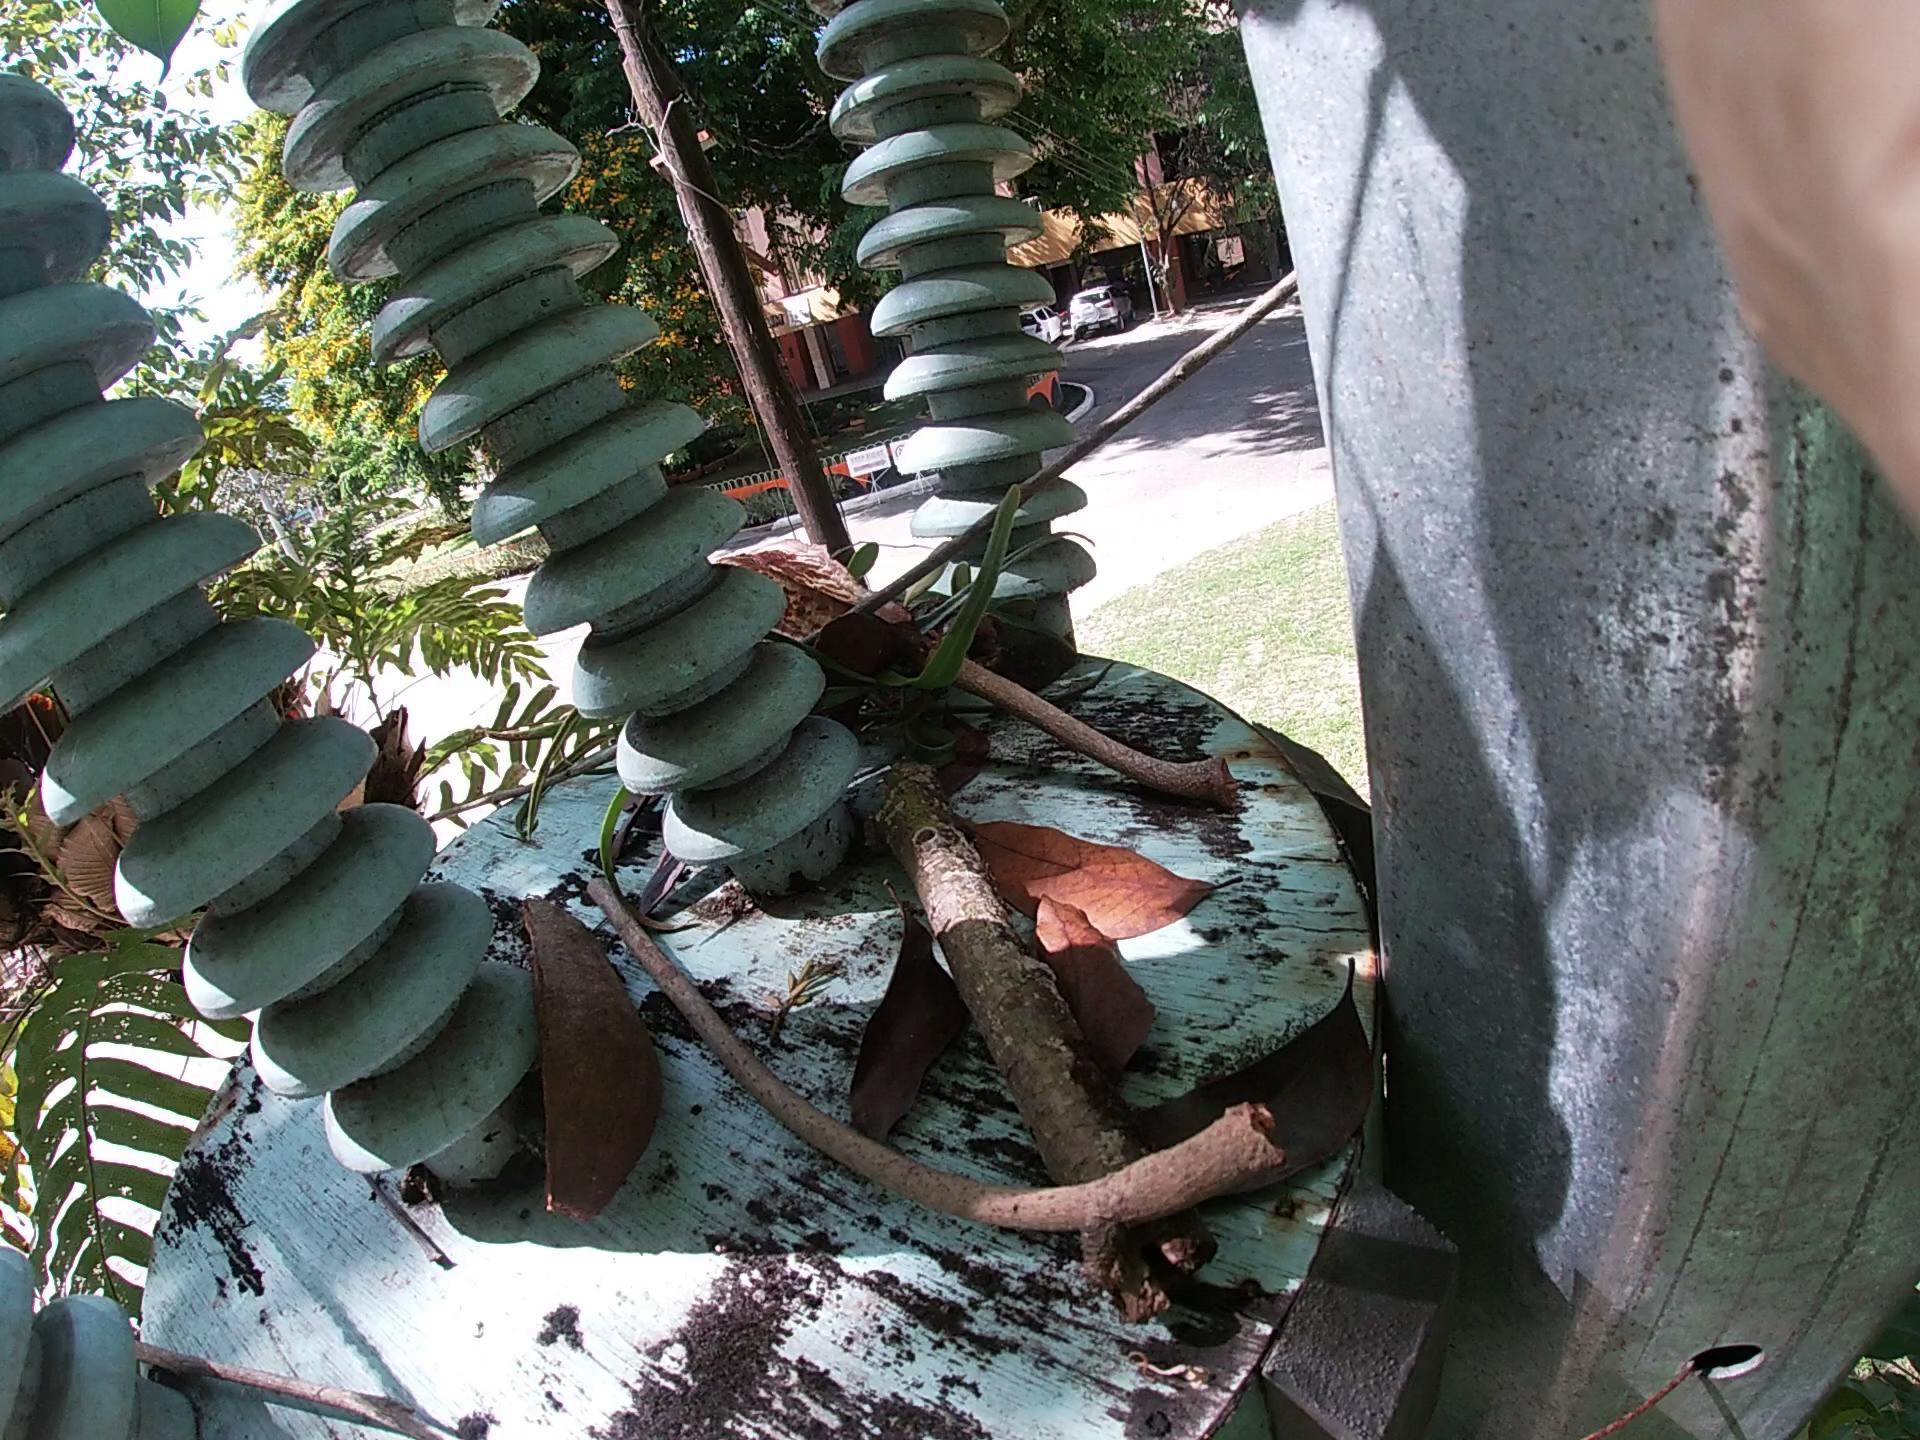branch with leaves: (848, 646, 1219, 1234)
leaf: (791, 790, 1281, 1115)
tree branch: (528, 197, 1454, 743), (532, 790, 1336, 1224), (925, 569, 1288, 812)
